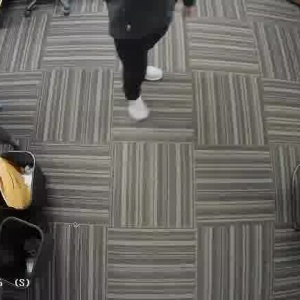person: (108, 0, 189, 121)
